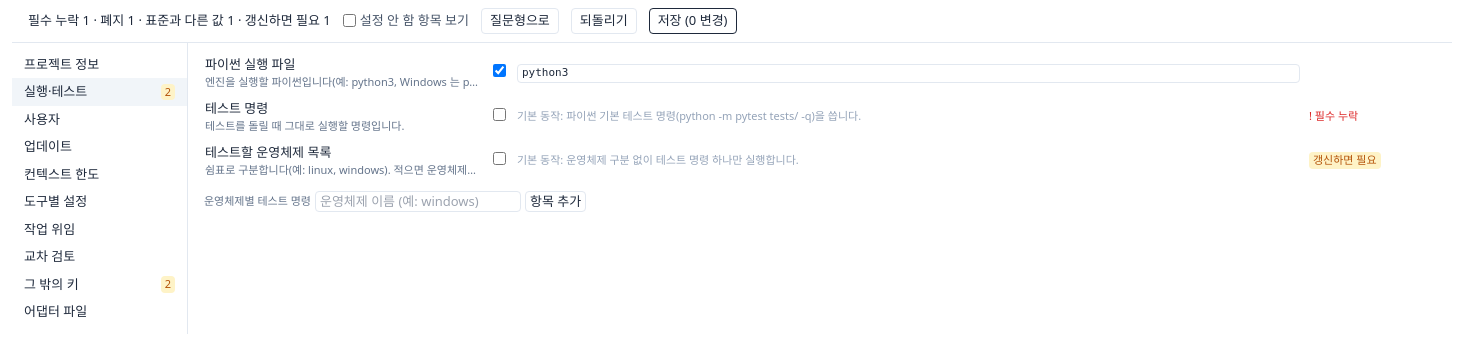
다섯 목록의 배너와 행 표시 › 행마다 필수 누락·폐지·모르는 항목·갱신하면 필요를 표시한다
Expected: the row with test id "conf-test.cmd" shows "! 필수 누락", [1309, 108, 1358, 123]
Expected: the row with test id "conf-qa.platforms" shows "갱신하면 필요", [1313, 152, 1377, 167]
What coordinates should you click on to do the following:
click the button "그 밖의 키 2"
I would click on:
 (100, 284)
Its box is [12, 270, 187, 298].
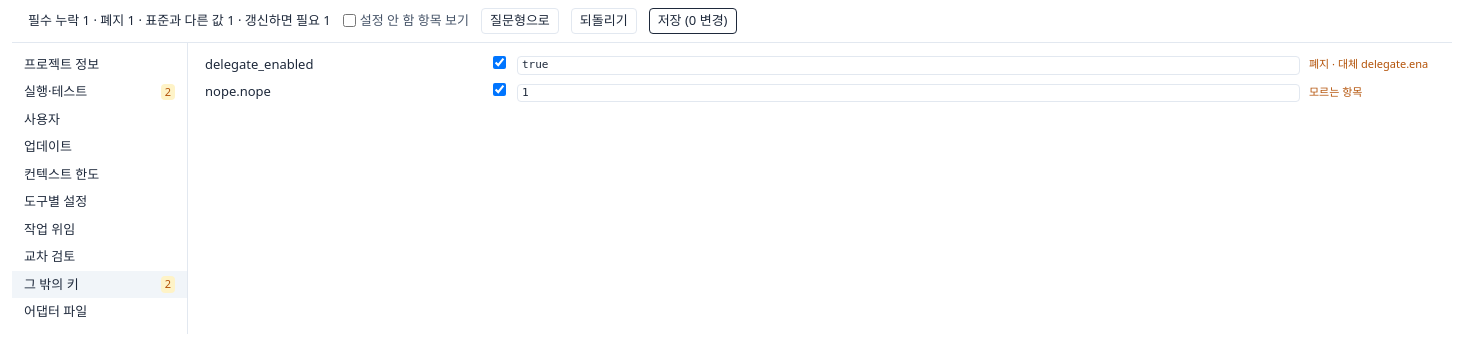
Expected: the row with test id "conf-delegate_enabled" shows "폐지 · 대체 delegate.enabled", [204, 50, 1436, 78]
Expected: the row with test id "conf-nope.nope" shows "모르는 항목", [1309, 84, 1362, 98]
